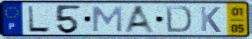5: (54, 4, 84, 35)
A: (122, 4, 158, 35)
D: (164, 5, 194, 34)
K: (199, 5, 223, 34)
L: (26, 5, 52, 33)
M: (91, 5, 124, 34)
